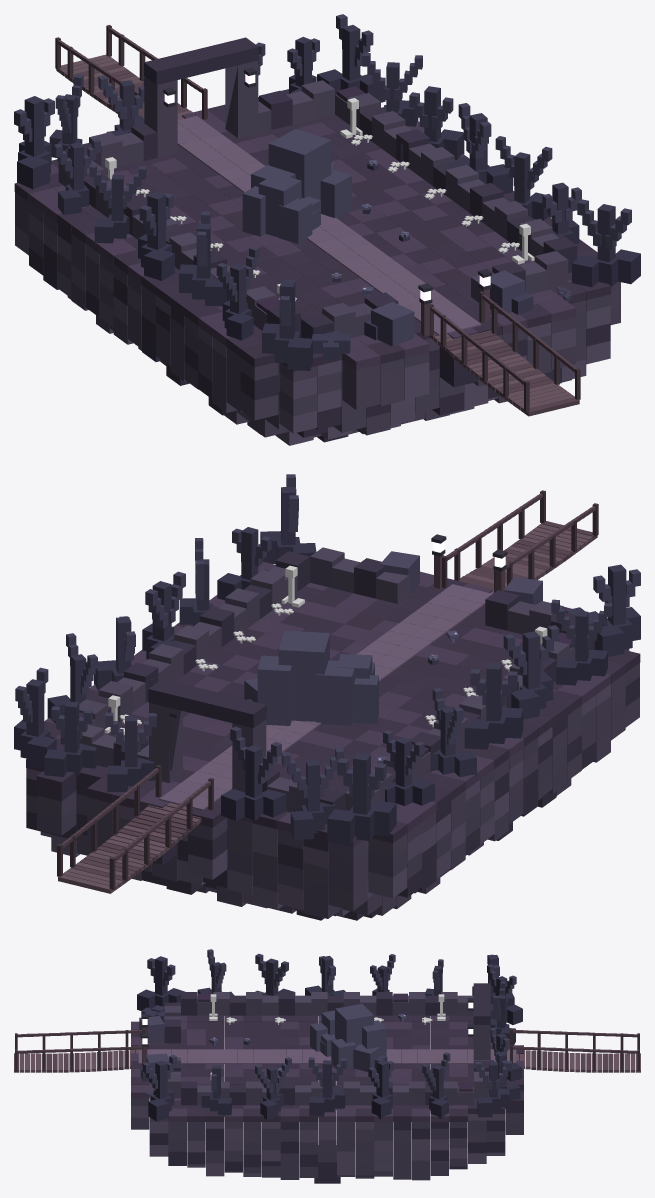
The model's file is room_rock_polluted.glb.
3 views of the same model, one above another, from view 1: azimuth 30°, elevation 25°; view 2: azimuth 150°, elevation 25°; view 3: azimuth 270°, elevation 25° (orthographic). The views are drawn at different scales.
Visible parts, largest first — view 1: room_rock_blocks, rock_outcrop_(0, 0).001, rock_outcrop_(0, 0).002, tree1_(0, 0).001, tree0_(0, 0).003, tree0_(0, 0).001, tree0_(0, 0).002, tree1_(0, 0).003, tree2_(0, 0).001, tree1_(0, 0).002, tree4_(0, 0).001, tree2_(0, 0).002 (+11 smaller); view 2: room_rock_blocks, rock_outcrop_(0, 0).001, tree0_(0, 0).003, tree5_(0, 0).003, tree0_(0, 0).002, tree4_(0, 0).001, tree0_(0, 0).001, tree2_(0, 0).001, tree2_(0, 0).003, tree1_(0, 0).003, tree0_(0, 0).004, tree1_(0, 0).004 (+11 smaller); view 3: room_rock_blocks, rock_outcrop_(0, 0).001, tree1_(0, 0).002, tree1_(0, 0).001, tree0_(0, 0).001, tree1_(0, 0).003, tree5_(0, 0).001, tree3_(0, 0).002, tree5_(0, 0).002, tree4_(0, 0).001, tree2_(0, 0).003, tree3_(0, 0).001 (+11 smaller).
Boxes of the visible parts, bbox=[...] form: room_rock_blocks: bbox=[14, 25, 620, 445]; rock_outcrop_(0, 0).001: bbox=[251, 128, 351, 225]; rock_outcrop_(0, 0).002: bbox=[242, 173, 318, 243]; tree1_(0, 0).001: bbox=[572, 199, 640, 287]; tree0_(0, 0).003: bbox=[14, 96, 54, 189]; tree0_(0, 0).001: bbox=[262, 280, 312, 370]; tree0_(0, 0).002: bbox=[138, 191, 174, 280]; tree1_(0, 0).003: bbox=[317, 14, 385, 102]; tree2_(0, 0).001: bbox=[216, 246, 259, 340]; tree1_(0, 0).002: bbox=[446, 103, 512, 193]; tree4_(0, 0).001: bbox=[179, 211, 226, 306]; tree2_(0, 0).002: bbox=[89, 164, 146, 245]; room_rock_blocks: bbox=[26, 490, 640, 920]; rock_outcrop_(0, 0).001: bbox=[257, 630, 354, 725]; tree0_(0, 0).003: bbox=[327, 753, 396, 845]; tree5_(0, 0).003: bbox=[221, 726, 286, 820]; tree0_(0, 0).002: bbox=[464, 663, 523, 749]; tree4_(0, 0).001: bbox=[503, 625, 559, 719]; tree0_(0, 0).001: bbox=[593, 564, 640, 656]; tree2_(0, 0).001: bbox=[551, 599, 612, 685]; tree2_(0, 0).003: bbox=[281, 748, 343, 840]; tree1_(0, 0).003: bbox=[14, 667, 56, 768]; tree0_(0, 0).004: bbox=[44, 701, 96, 776]; tree1_(0, 0).004: bbox=[105, 712, 156, 791]; room_rock_blocks: bbox=[14, 983, 640, 1183]; rock_outcrop_(0, 0).001: bbox=[321, 1004, 386, 1069]; tree1_(0, 0).002: bbox=[308, 1057, 346, 1117]; tree1_(0, 0).001: bbox=[142, 1055, 177, 1121]; tree0_(0, 0).001: bbox=[137, 956, 185, 1010]; tree1_(0, 0).003: bbox=[475, 1061, 511, 1117]; tree5_(0, 0).001: bbox=[255, 1057, 291, 1119]; tree3_(0, 0).002: bbox=[368, 1060, 393, 1118]; tree5_(0, 0).002: bbox=[422, 1052, 450, 1118]; tree4_(0, 0).001: bbox=[255, 953, 295, 995]; tree2_(0, 0).003: bbox=[487, 964, 522, 1024]; tree3_(0, 0).001: bbox=[201, 1065, 231, 1116].
Size of the model in its own units: 17.99 by 12.1 by 38.5.
